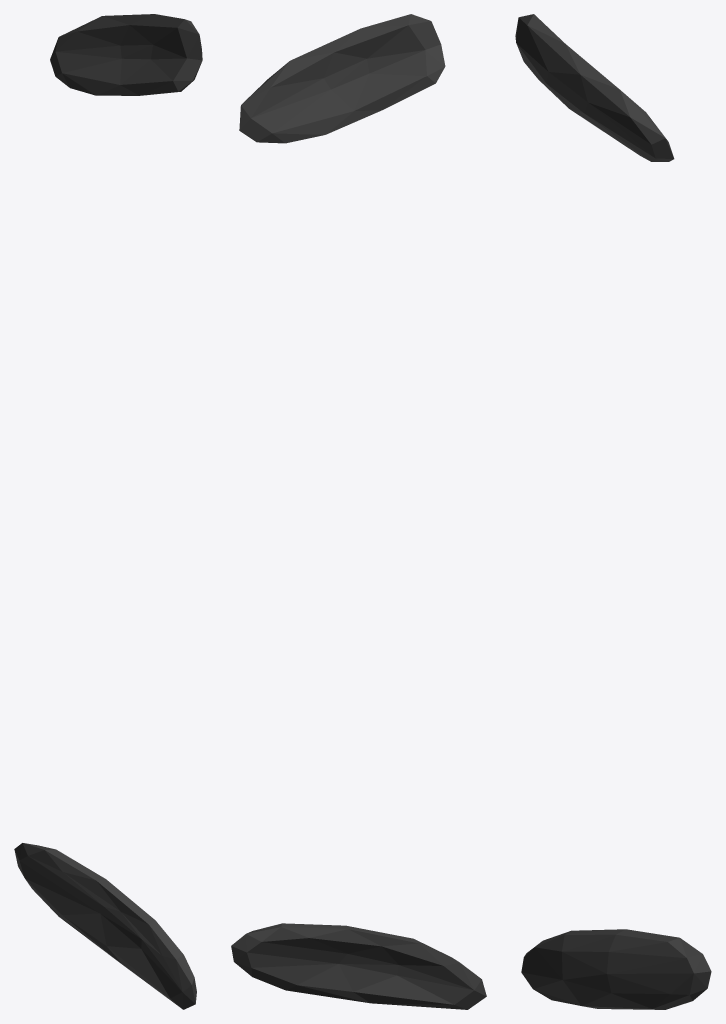
Rendered from Pelvis_cranial_dorsal_iliac_spine.glb.
3 renders of one model, left to right at view 1: azimuth 90°, elevation 25°; view 2: azimuth 150°, elevation 25°; view 3: azimuth 270°, elevation 25°, orthographic. The views are drawn at different scales.
Visible parts, largest first — view 1: Pelvis_cranial_dorsal_iliac_spine; view 2: Pelvis_cranial_dorsal_iliac_spine; view 3: Pelvis_cranial_dorsal_iliac_spine.
Boxes of the visible parts, bbox=[...] form: Pelvis_cranial_dorsal_iliac_spine: bbox=[14, 14, 202, 1009]; Pelvis_cranial_dorsal_iliac_spine: bbox=[231, 14, 486, 1009]; Pelvis_cranial_dorsal_iliac_spine: bbox=[515, 14, 711, 1009].
Bounding box in the file's own units: 0.5768 × 3.07 × 0.5442.
1 material, 1 textured.
